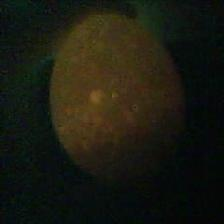fertile: (48, 9, 187, 193)
